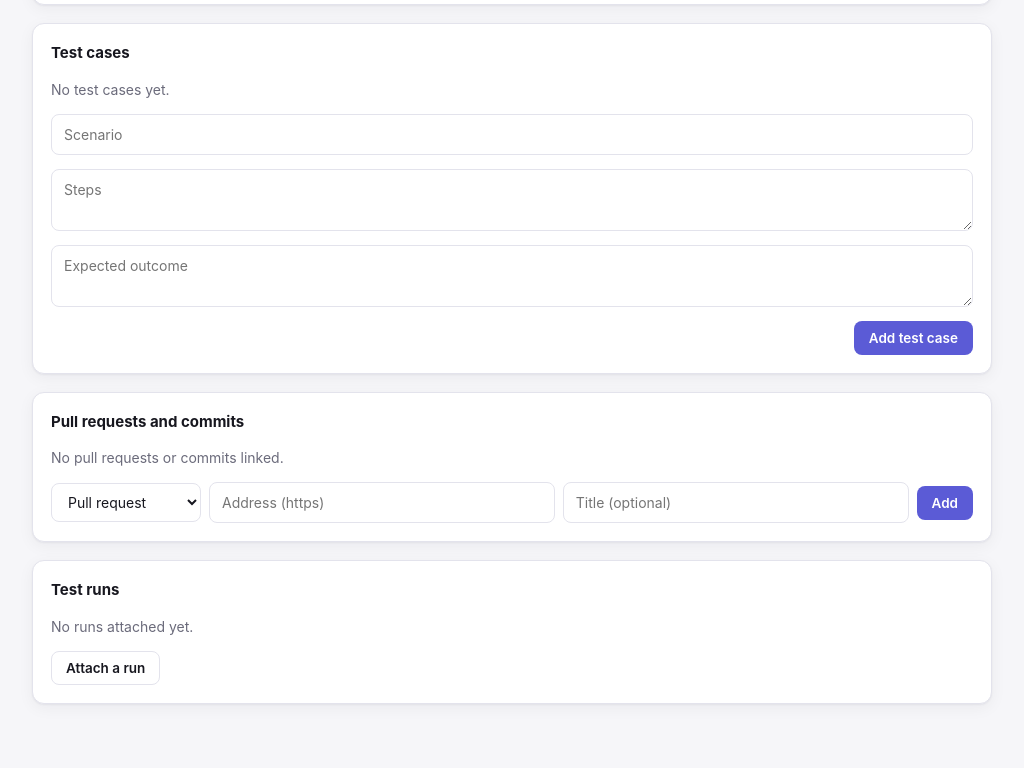
it: pull requests and commits › refuses javascript:alert(1) before asking the API
(page scrolled)
In the field labelled "Address (https)": (382, 502) [209, 482, 555, 523], type "javascript:alert(1)"
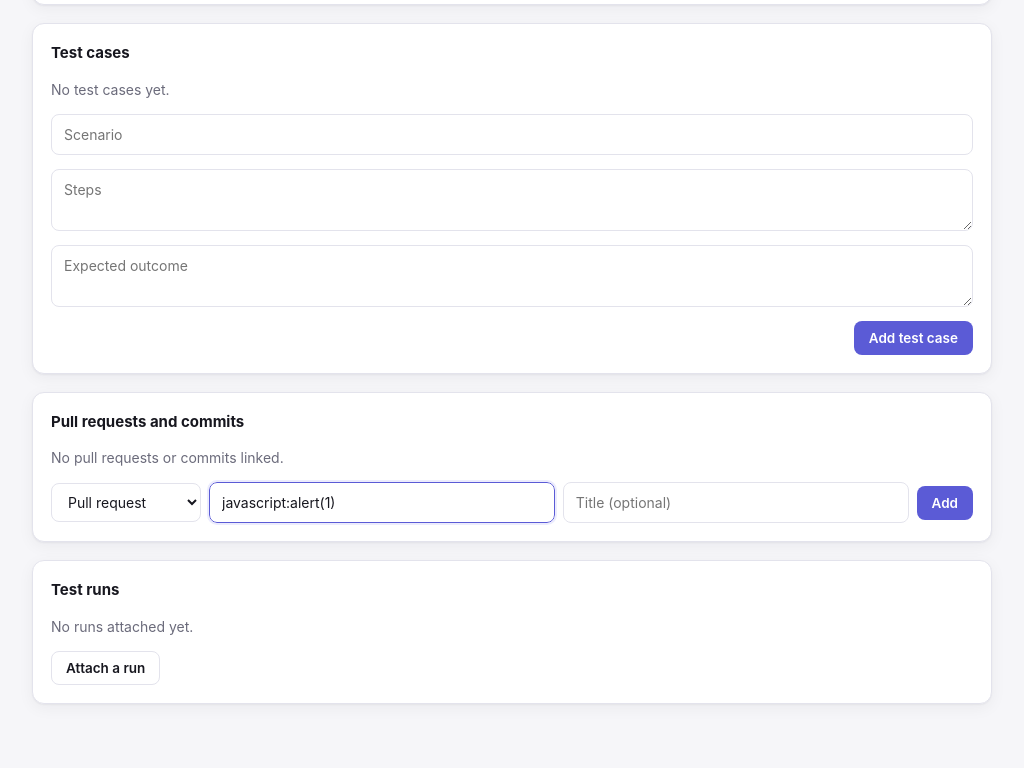
Click the button "Add": (945, 502) [916, 486, 973, 520]
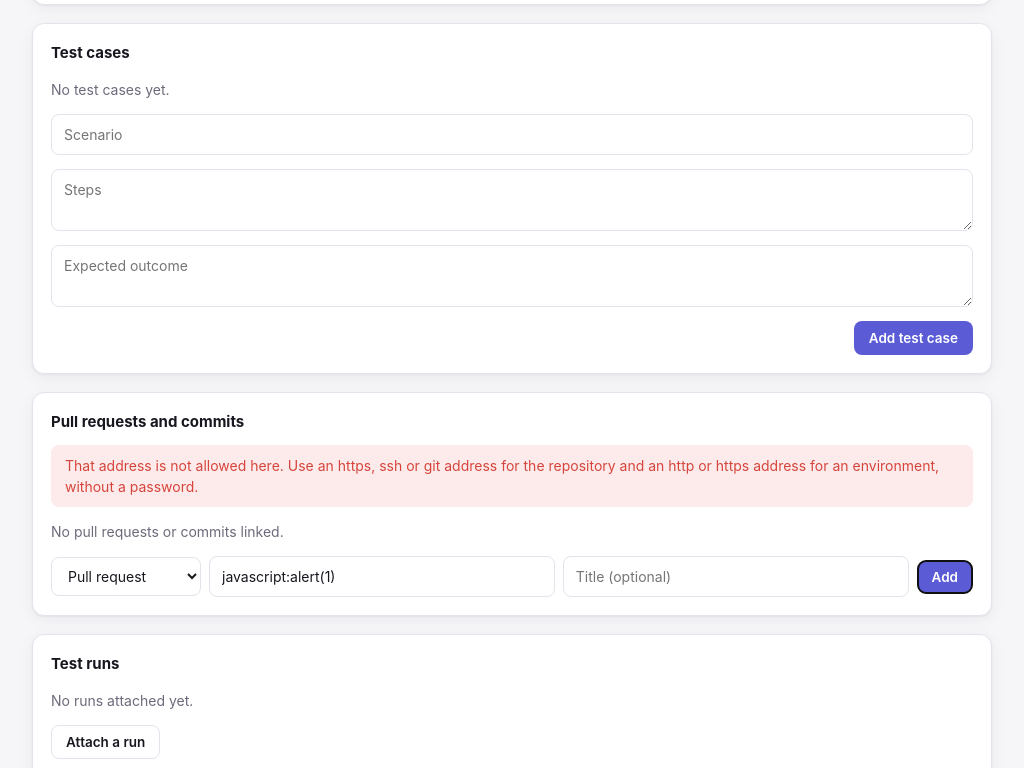
Now the text "That address is not allowed here" is shown, box [65, 457, 939, 495]
